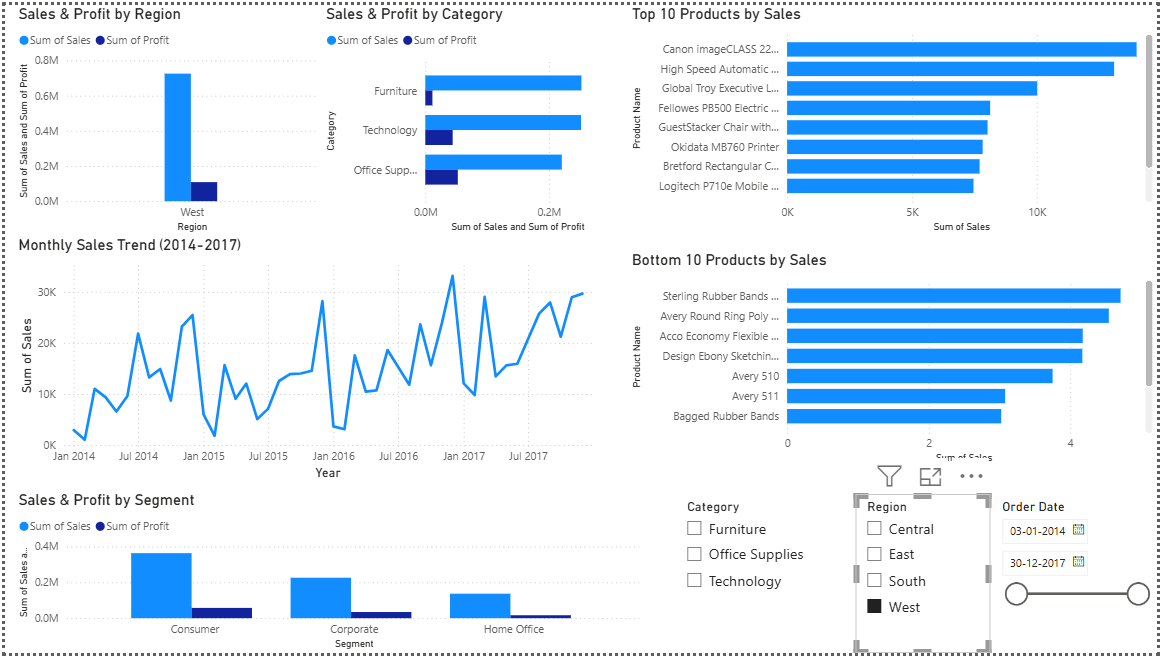

Layout of this report page (visuals, bound fields, positions):
{"tool":"powerbi","page":{"name":"page 1","canvas":[1280,720],"ordinal":0},"visuals":[{"type":"clusteredColumnChart","title":"Sales & Profit by Region","fields":{"Category":["Raw_Data.Region"],"Y":["Sum(Raw_Data.Sales)","Sum(Raw_Data.Profit)"]},"box":[10,0,341.7,256.7],"z":0},{"type":"clusteredBarChart","title":"Sales & Profit by Category","fields":{"Y":["Sum(Raw_Data.Sales)","Sum(Raw_Data.Profit)"],"Category":["Raw_Data.Category"]},"box":[351.7,0,340,256.7],"z":1},{"type":"lineChart","title":"Monthly Sales Trend (2014-2017)","fields":{"Category":["Raw_Data.Order Date.Variation.Date Hierarchy.Year","Raw_Data.Order Date.Variation.Date Hierarchy.Quarter","Raw_Data.Order Date.Variation.Date Hierarchy.Month","Raw_Data.Order Date.Variation.Date Hierarchy.Day"],"Y":["Sum(Raw_Data.Sales)"]},"box":[10,256.7,658.3,275],"z":2},{"type":"clusteredBarChart","title":"Top 10 Products by Sales","fields":{"Category":["Raw_Data.Product Name"],"Y":["Sum(Raw_Data.Sales)"]},"box":[691.7,0,588.3,256.7],"z":3},{"type":"clusteredBarChart","title":"Bottom 10 Products by Sales","fields":{"Category":["Raw_Data.Product Name"],"Y":["Sum(Raw_Data.Sales)"]},"box":[691.7,273.3,588.3,240],"z":4},{"type":"lineClusteredColumnComboChart","title":"Sales & Profit  by Segment","fields":{"Category":["Raw_Data.Segment"],"Y":["Sum(Raw_Data.Sales)","Sum(Raw_Data.Profit)"]},"box":[10,540,701.7,180],"z":5},{"type":"slicer","fields":{"Values":["Raw_Data.Category"]},"box":[745,543.3,171.7,176.7],"z":6},{"type":"slicer","fields":{"Values":["Raw_Data.Region"]},"box":[945,543.3,150,176.7],"z":7},{"type":"slicer","fields":{"Values":["Raw_Data.Order Date"]},"box":[1095,543.3,185,176.7],"z":8}]}

Visuals, with their boxes in screenshot pixels (x1, y1, x2, y2), scaled from the page's 1280x720 canvas onto the 1164x660 screenshot:
"Sales & Profit by Region" clusteredColumnChart: pyautogui.locateOnScreen(9, 0, 320, 235)
"Sales & Profit by Category" clusteredBarChart: pyautogui.locateOnScreen(320, 0, 629, 235)
"Monthly Sales Trend (2014-2017)" lineChart: pyautogui.locateOnScreen(9, 235, 608, 487)
"Top 10 Products by Sales" clusteredBarChart: pyautogui.locateOnScreen(629, 0, 1163, 235)
"Bottom 10 Products by Sales" clusteredBarChart: pyautogui.locateOnScreen(629, 251, 1163, 471)
"Sales & Profit  by Segment" lineClusteredColumnComboChart: pyautogui.locateOnScreen(9, 495, 647, 659)
slicer - Raw_Data.Category: pyautogui.locateOnScreen(677, 498, 834, 659)
slicer - Raw_Data.Region: pyautogui.locateOnScreen(859, 498, 996, 659)
slicer - Raw_Data.Order Date: pyautogui.locateOnScreen(996, 498, 1163, 659)
